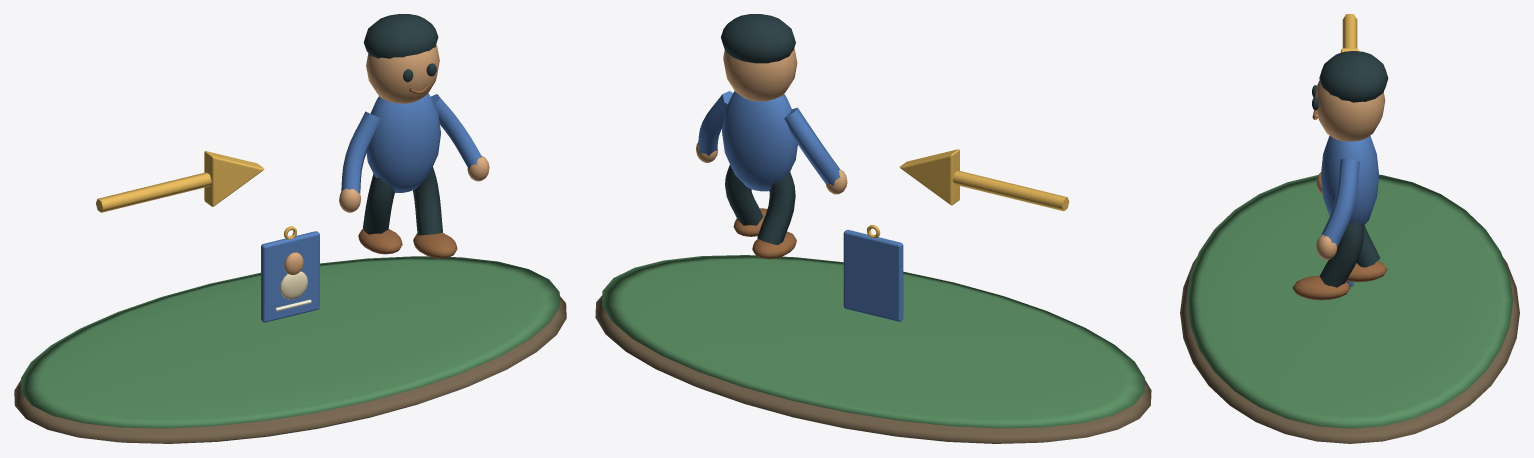
Rendered from complete-first-other-person.glb.
The picture shows the model from 3 angles, left to right: view 1: azimuth 30°, elevation 25°; view 2: azimuth 150°, elevation 25°; view 3: azimuth 270°, elevation 25°; orthographic projection.
Parts seen in each view (by area): view 1: complete-first-other-person_surface_01, complete-first-other-person_surface_06, complete-first-other-person_surface_00, complete-first-other-person_surface_04, complete-first-other-person_surface_03, complete-first-other-person_surface_02, complete-first-other-person_surface_05, complete-first-other-person_surface_07; view 2: complete-first-other-person_surface_01, complete-first-other-person_surface_06, complete-first-other-person_surface_00, complete-first-other-person_surface_04, complete-first-other-person_surface_02, complete-first-other-person_surface_03, complete-first-other-person_surface_05; view 3: complete-first-other-person_surface_01, complete-first-other-person_surface_00, complete-first-other-person_surface_04, complete-first-other-person_surface_06, complete-first-other-person_surface_03, complete-first-other-person_surface_05, complete-first-other-person_surface_02.
Boxes of the visible parts, x1=… form: complete-first-other-person_surface_01: x1=21, y1=256, x2=559, y2=428; complete-first-other-person_surface_06: x1=261, y1=93, x2=481, y2=322; complete-first-other-person_surface_00: x1=14, y1=296, x2=566, y2=443; complete-first-other-person_surface_04: x1=363, y1=14, x2=442, y2=235; complete-first-other-person_surface_03: x1=284, y1=44, x2=489, y2=274; complete-first-other-person_surface_02: x1=96, y1=151, x2=296, y2=239; complete-first-other-person_surface_05: x1=358, y1=84, x2=457, y2=258; complete-first-other-person_surface_07: x1=280, y1=271, x2=307, y2=299; complete-first-other-person_surface_01: x1=602, y1=255, x2=1144, y2=428; complete-first-other-person_surface_06: x1=698, y1=91, x2=903, y2=321; complete-first-other-person_surface_00: x1=595, y1=295, x2=1151, y2=443; complete-first-other-person_surface_04: x1=721, y1=14, x2=795, y2=244; complete-first-other-person_surface_02: x1=867, y1=149, x2=1069, y2=237; complete-first-other-person_surface_03: x1=696, y1=47, x2=847, y2=194; complete-first-other-person_surface_05: x1=733, y1=208, x2=796, y2=259; complete-first-other-person_surface_01: x1=1186, y1=174, x2=1513, y2=428; complete-first-other-person_surface_00: x1=1180, y1=257, x2=1519, y2=443; complete-first-other-person_surface_04: x1=1312, y1=51, x2=1388, y2=287; complete-first-other-person_surface_06: x1=1320, y1=135, x2=1378, y2=286; complete-first-other-person_surface_03: x1=1315, y1=80, x2=1385, y2=259; complete-first-other-person_surface_05: x1=1292, y1=110, x2=1387, y2=300; complete-first-other-person_surface_02: x1=1340, y1=14, x2=1358, y2=52.
Size of the model in its own units: 4.56 by 2.67 by 2.5.
